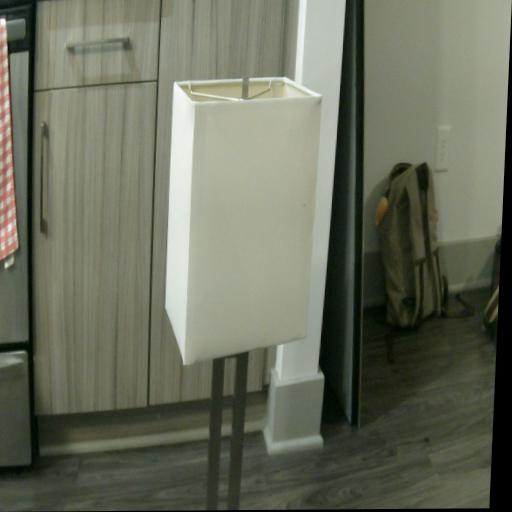lamp: (154, 75, 324, 511)
